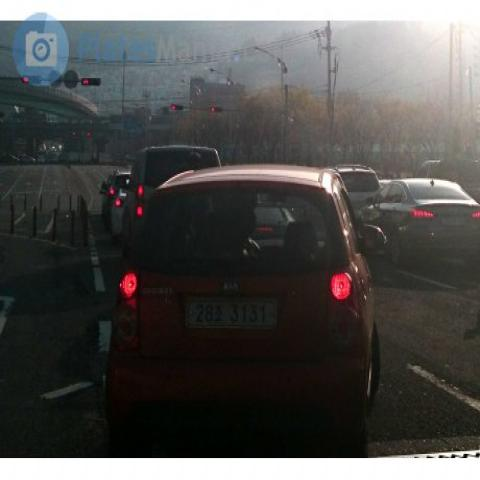LP: (183, 291, 282, 338)
